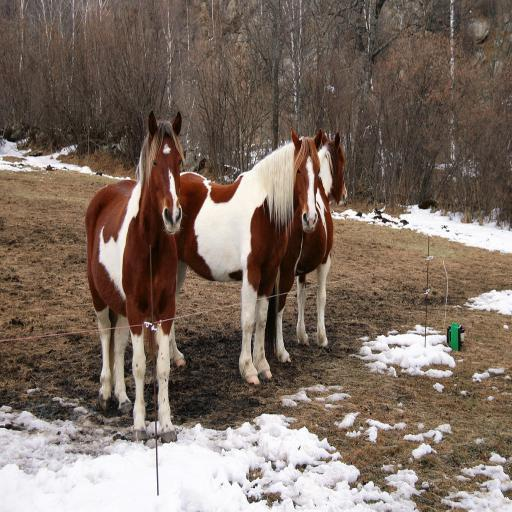horse: (168, 128, 324, 387), (84, 112, 186, 442), (296, 129, 349, 351)
